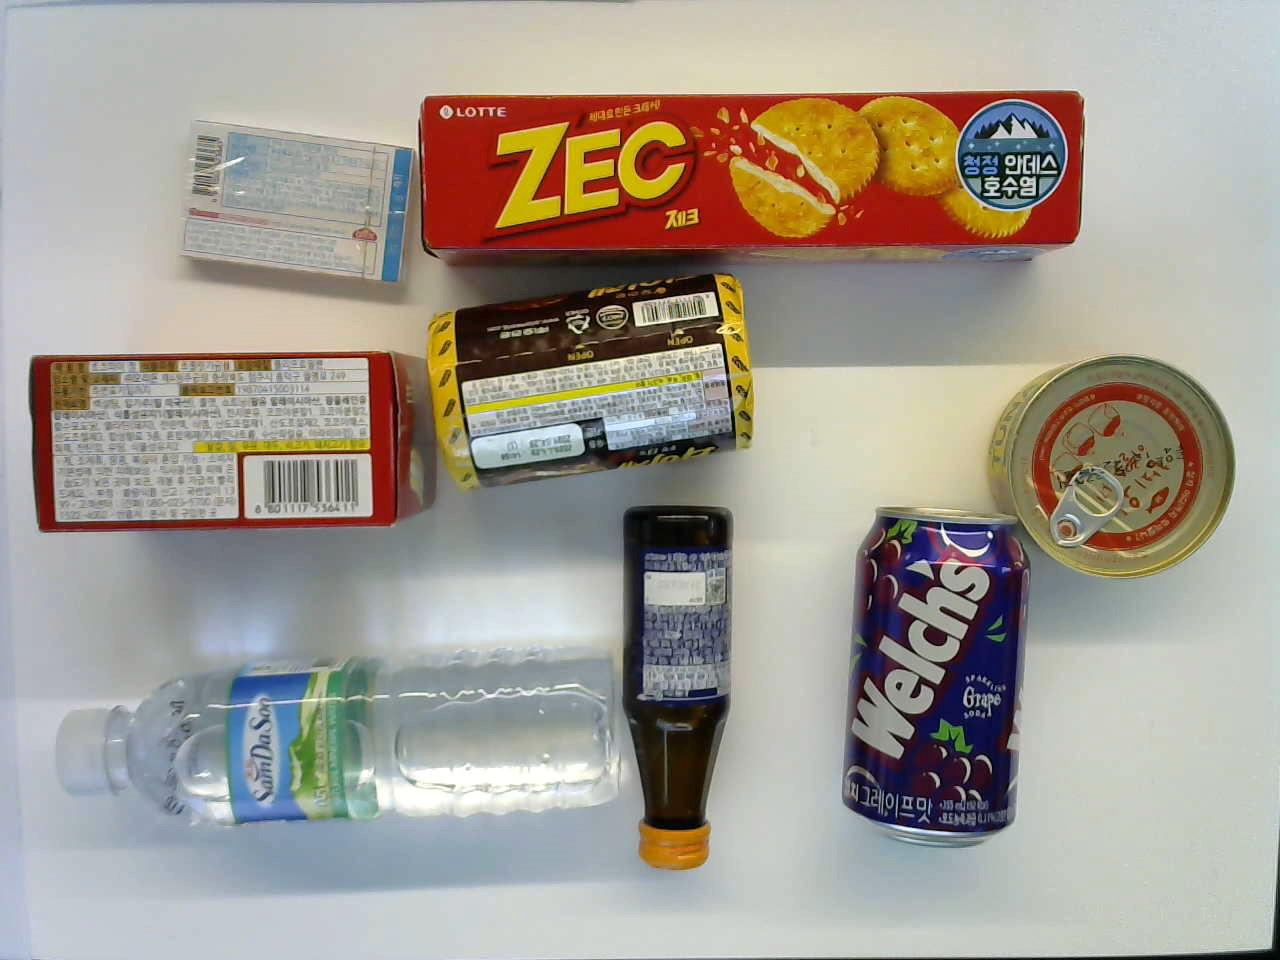ID_gum: (172, 113, 416, 288)
chocopie: (22, 343, 441, 535)
diget_choco: (420, 267, 765, 492)
samdasu: (51, 641, 625, 837)
tuna: (985, 352, 1242, 578)
vita500: (612, 497, 737, 873)
welchs: (836, 499, 1027, 847)
zec: (415, 83, 1089, 263)
